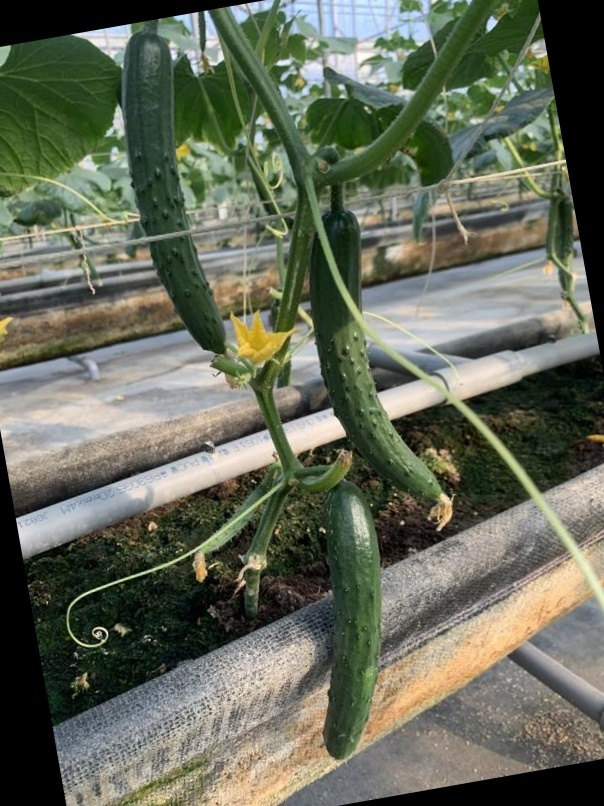mature: (111, 27, 231, 360), (312, 208, 444, 500), (325, 484, 388, 761)
